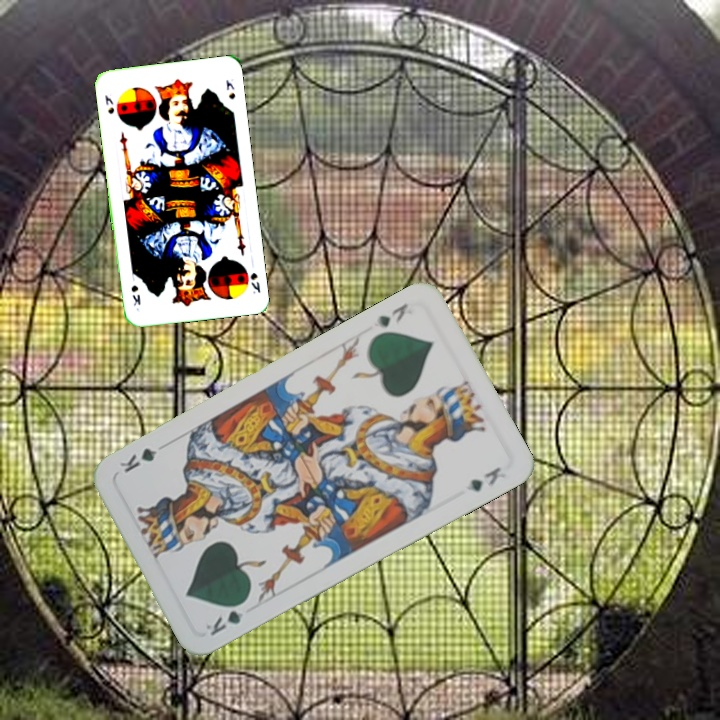GK: (201, 596, 251, 639), (372, 299, 411, 330)
SK: (246, 269, 263, 297), (101, 91, 117, 116)
